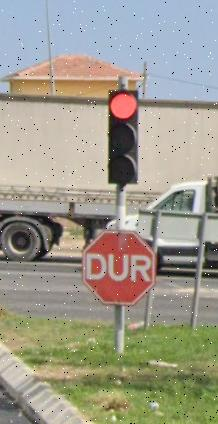redlight: (105, 89, 139, 184)
stop: (83, 233, 157, 308)
